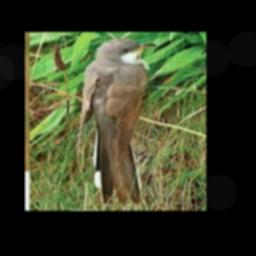Cuckoo: (81, 38, 157, 202)
